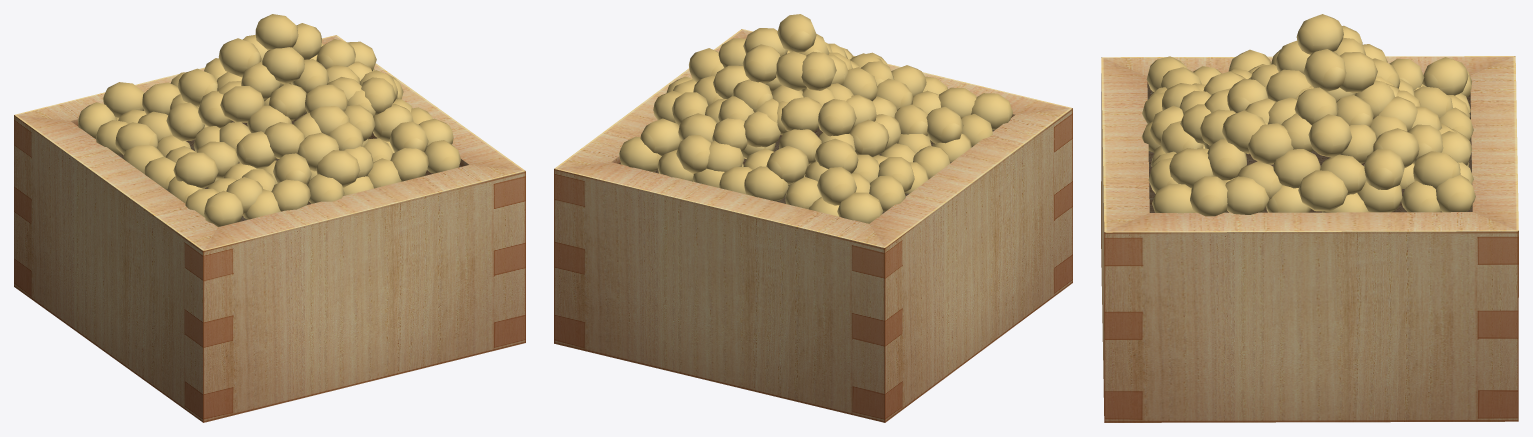
File: mame_masu.FBX
The picture shows the model from 3 angles, left to right: view 1: azimuth 30°, elevation 25°; view 2: azimuth 150°, elevation 25°; view 3: azimuth 270°, elevation 25°; orthographic projection. The views are drawn at different scales.
Parts seen in each view (by area): view 1: mame_masu; view 2: mame_masu; view 3: mame_masu.
Boxes of the visible parts, x1=… form: mame_masu: x1=14, y1=14, x2=525, y2=422; mame_masu: x1=554, y1=14, x2=1072, y2=422; mame_masu: x1=1101, y1=14, x2=1518, y2=422.
Bounding box in the file's own units: 5.62 × 4.8 × 5.62.
